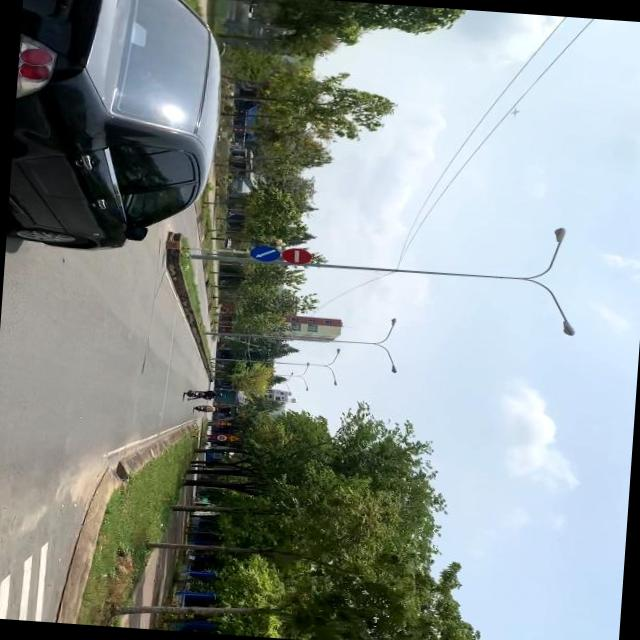P-102: (279, 246, 312, 266)
R-302a: (248, 244, 278, 264)
